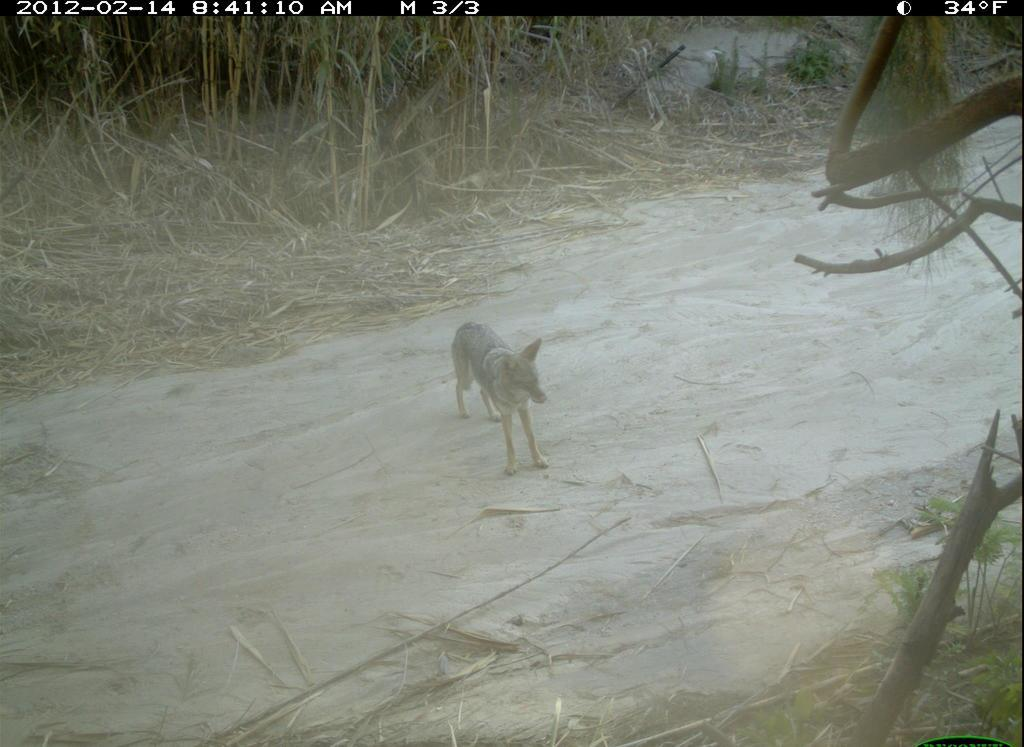coyote: (445, 314, 561, 473)
